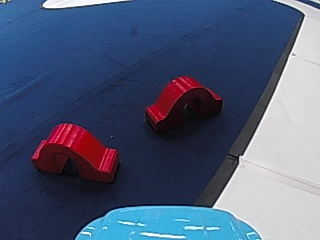bridge: (29, 119, 121, 185), (139, 72, 223, 132)
